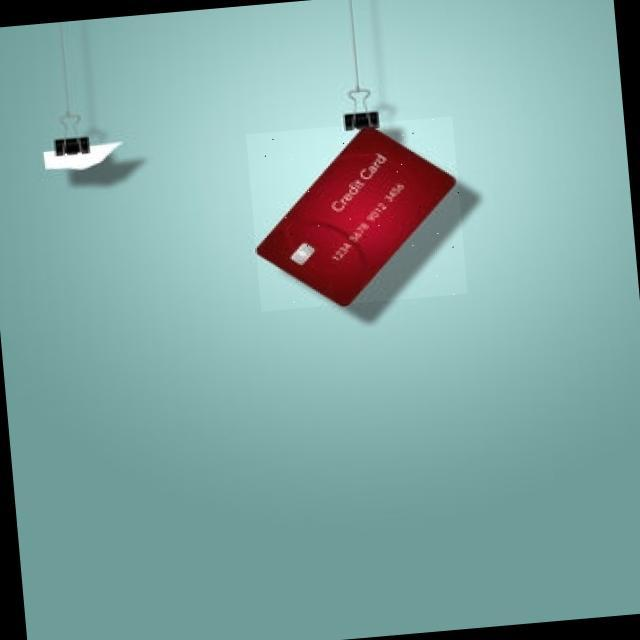payment_card: (252, 124, 457, 308)
